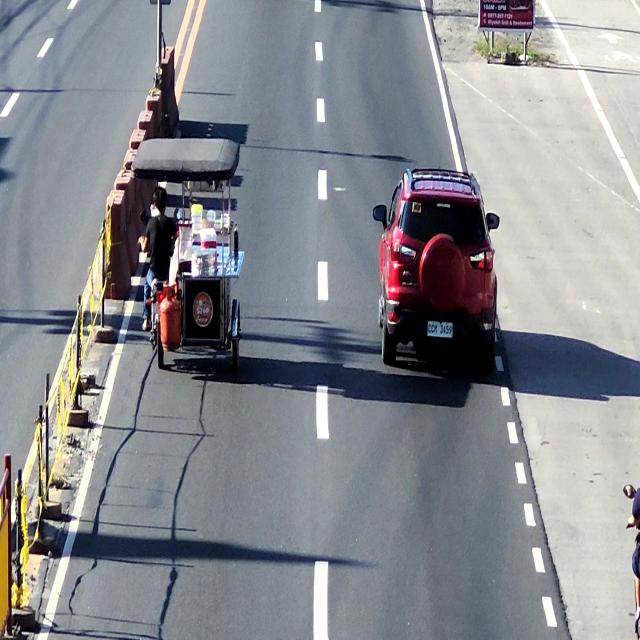Car: (379, 166, 497, 366)
License-Plate: (424, 319, 454, 345)
Tricycle: (132, 136, 252, 371)
